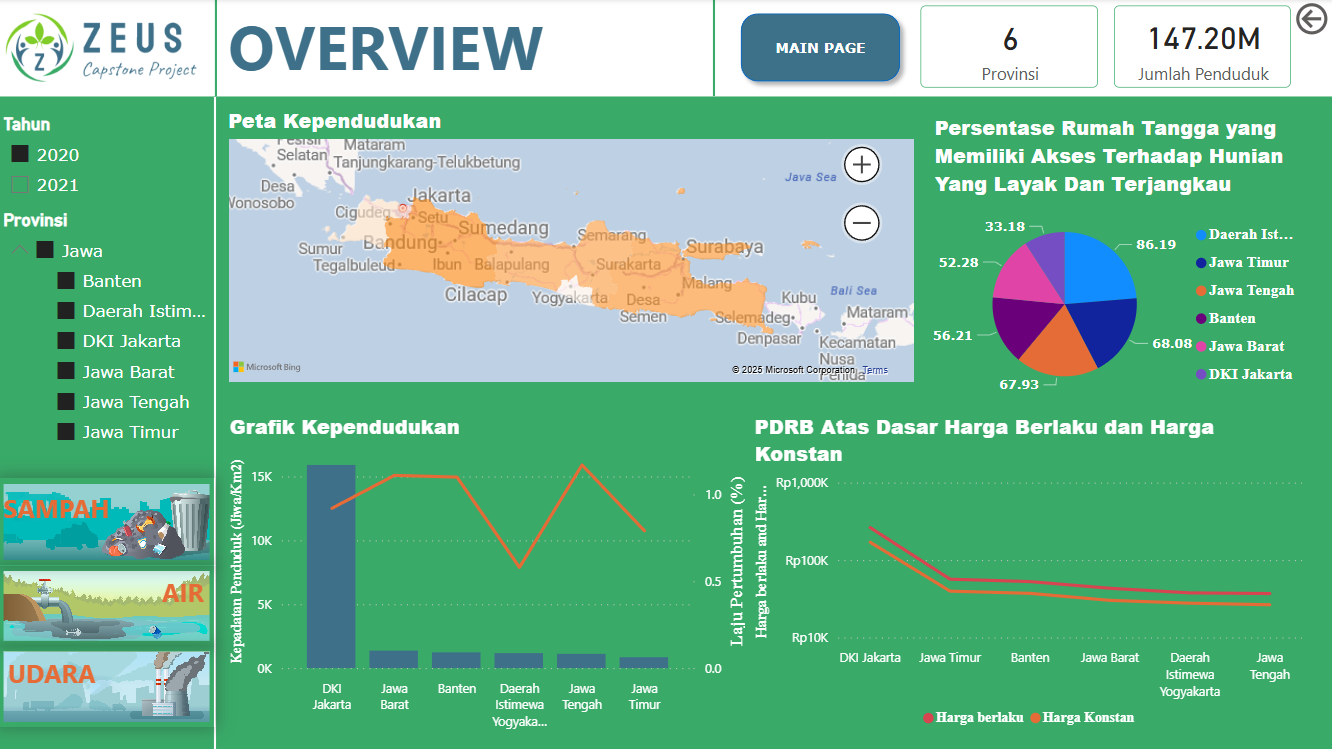

Layout of this report page (visuals, bound fields, positions):
{"tool":"powerbi","page":{"name":"OVERVIEW","canvas":[1280,720],"ordinal":1},"visuals":[{"type":"shape","box":[0,0,1280,94.3],"z":0},{"type":"filledMap","title":"Peta Kependudukan","fields":{"Category":["Table.Provinsi"]},"box":[215.9,103.1,667.2,269.4],"z":1000},{"type":"slicer","title":"Tahun","fields":{"Values":["Table.Tahun"]},"box":[0,110.9,208.1,90.5],"z":2000},{"type":"image","box":[0,0,196.5,94.3],"z":3000},{"type":"shape","box":[52.5,0,311.2,94.3],"z":4000},{"type":"actionButton","box":[1238.2,0,41.8,39.9],"z":5000},{"type":"textbox","box":[215.9,0,470.8,94.3],"z":6000},{"type":"card","fields":{"Values":["Count(Table.Provinsi)"]},"box":[883.2,6.8,170.2,78.8],"z":7000},{"type":"card","fields":{"Values":["Sum(Table.Jumlah Penduduk)"]},"box":[1068.5,6.6,169.4,78.6],"z":8000},{"type":"shape","box":[530.5,0,311.4,94],"z":9000},{"type":"shape","box":[702.9,5.2,170.5,83.2],"z":10000},{"type":"slicer","title":"Provinsi","fields":{"Values":["Table.Pulau","Table.Provinsi"]},"box":[0,203.3,208.1,234.4],"z":11000},{"type":"shape","box":[174.1,94.3,68.1,625.4],"z":12000},{"type":"lineStackedColumnComboChart","title":"Grafik Kependudukan","fields":{"Y":["Sum(Table.Kepadatan Penduduk)"],"Category":["Table.Provinsi"],"Y2":["Sum(Table.Laju Pertumbuhan Penduduk)"]},"box":[216.4,396.2,503.8,312.2],"z":13000},{"type":"pieChart","title":"Persentase Rumah Tangga  yang Memiliki Akses Terhadap Hunian  Yang Layak Dan Terjangkau","fields":{"Y":["Sum(Table.Persentase Rumah Tangga yang Memiliki Akses Terhadap Hunian Yang Layak Dan Terjangkau)"],"Category":["Table.Provinsi"]},"box":[892.4,110.9,367.1,285.3],"z":14000},{"type":"image","box":[0,543.7,207.8,77.5],"z":15000},{"type":"image","title":"SAMPAH","box":[0,459.8,207.8,84],"z":16000,"group":"g1"},{"type":"image","box":[0,621.2,207.8,77.5],"z":16000},{"type":"textbox","box":[0,466.5,120.6,44.1],"z":17000,"group":"g1"},{"type":"textbox","box":[141,546.9,61.4,49.5],"z":17000},{"type":"textbox","box":[4.3,625.5,116.3,49.5],"z":18000},{"type":"group","id":"g1","title":"Group 1","box":[0,459.8,207.8,84],"z":19000},{"type":"lineChart","title":"PDRB Atas Dasar Harga Berlaku dan Harga Konstan","fields":{"Y":["Sum(Table.PDRB Harga Berlaku)","Sum(Table.PDRB Harga Konsan)"],"Category":["Table.Provinsi"]},"box":[720.2,396.2,539.3,312.2],"z":20000}]}

Visuals, with their boxes in screenshot pixels (x1, y1, x2, y2), scaled from the page's 1280x720 canvas onto the 1332x749 screenshot:
shape: 0, 0, 1331, 98
"Peta Kependudukan" filledMap: 225, 107, 919, 388
"Tahun" slicer: 0, 115, 217, 210
image: 0, 0, 204, 98
shape: 55, 0, 378, 98
actionButton: 1289, 0, 1331, 42
textbox: 225, 0, 715, 98
card - Count(Table.Provinsi): 919, 7, 1096, 89
card - Sum(Table.Jumlah Penduduk): 1112, 7, 1288, 89
shape: 552, 0, 876, 98
shape: 731, 5, 909, 92
"Provinsi" slicer: 0, 211, 217, 455
shape: 181, 98, 252, 748
"Grafik Kependudukan" lineStackedColumnComboChart: 225, 412, 749, 737
"Persentase Rumah Tangga  yang Memiliki Akses Terhadap Hunian  Yang Layak Dan Terjangkau" pieChart: 929, 115, 1311, 412
image: 0, 566, 216, 646
"SAMPAH" image: 0, 478, 216, 566
image: 0, 646, 216, 727
textbox: 0, 485, 125, 531
textbox: 147, 569, 211, 620
textbox: 4, 651, 125, 702
"Group 1" group: 0, 478, 216, 566
"PDRB Atas Dasar Harga Berlaku dan Harga Konstan" lineChart: 749, 412, 1311, 737
